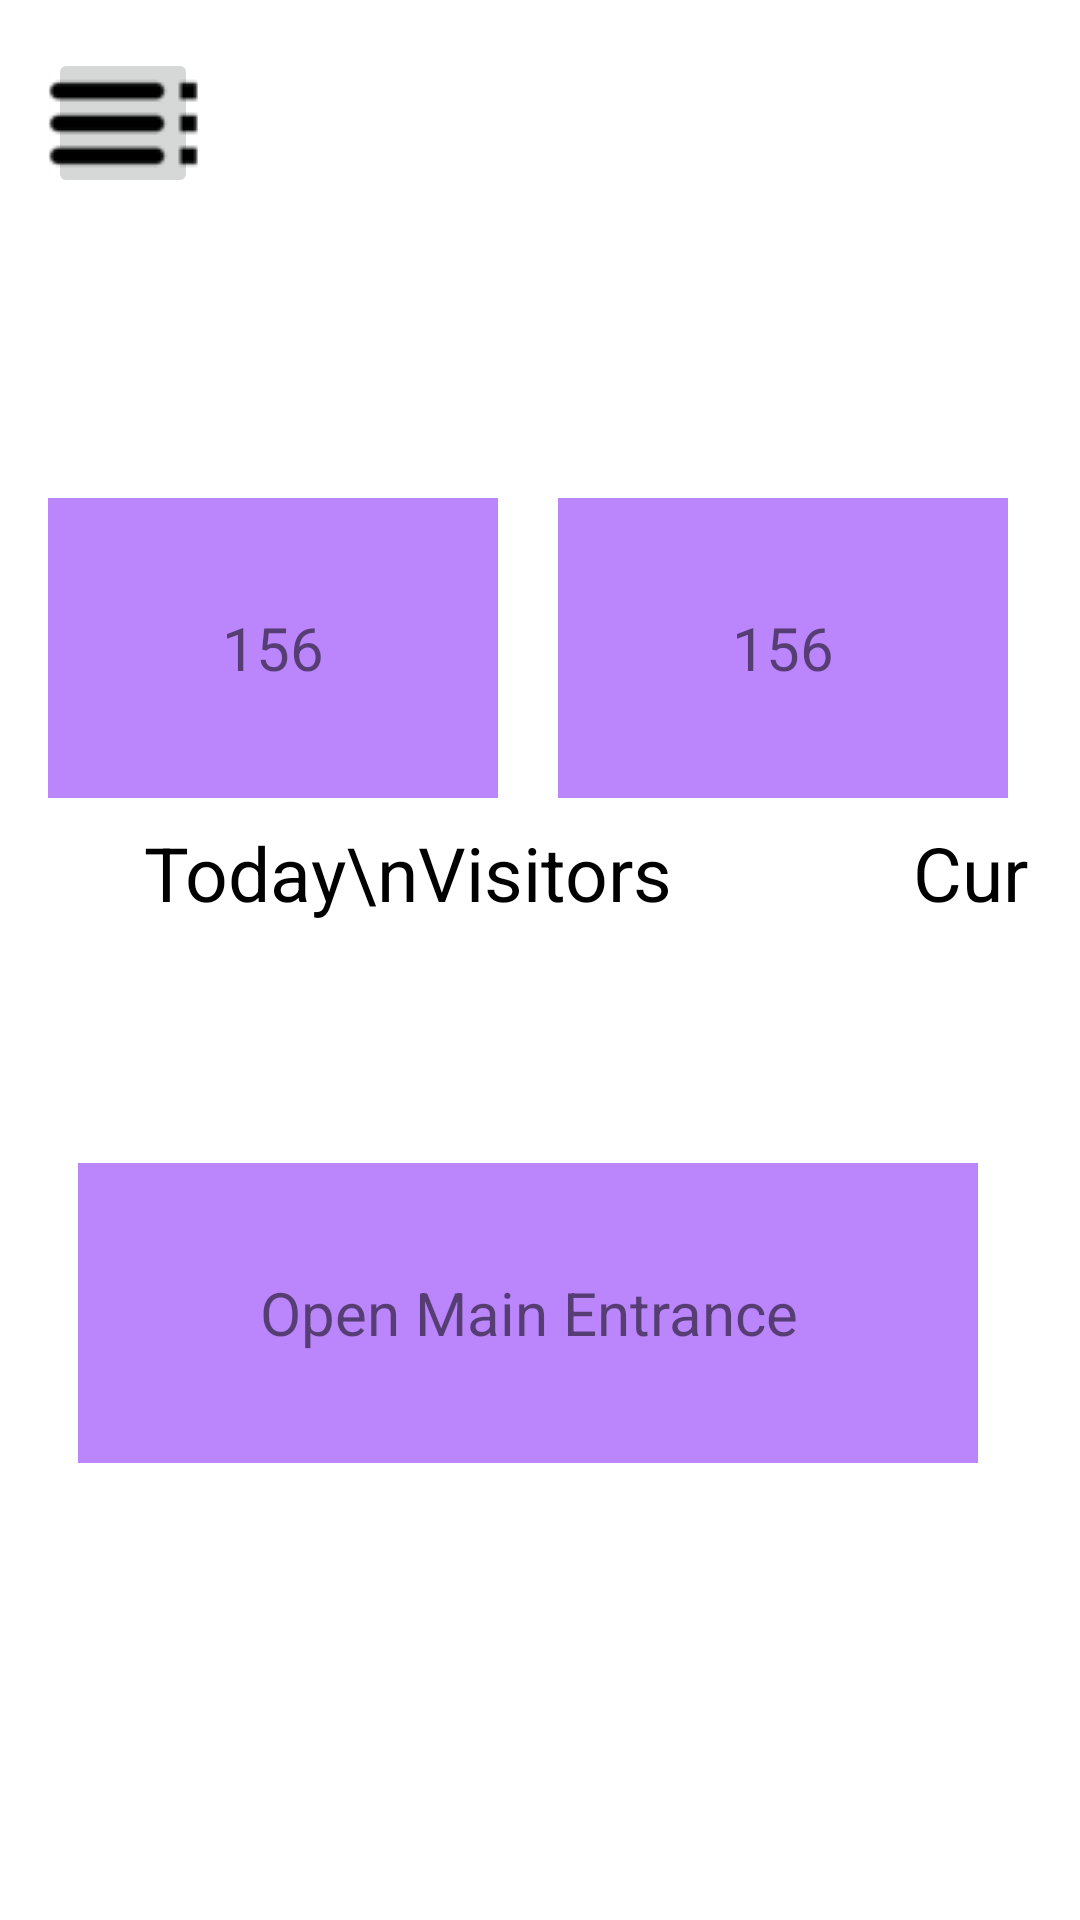

Point at icon controls on the screen. Image size 1080×1920, points as point (x, y).
drawer: point (123, 123)
